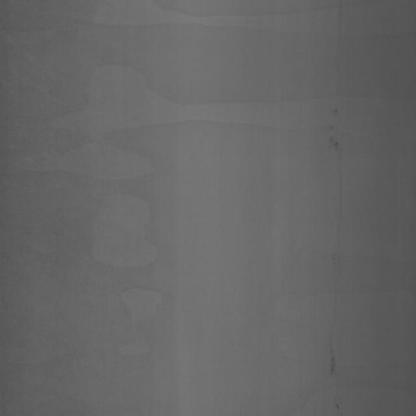water_spot: (313, 111, 348, 406)
